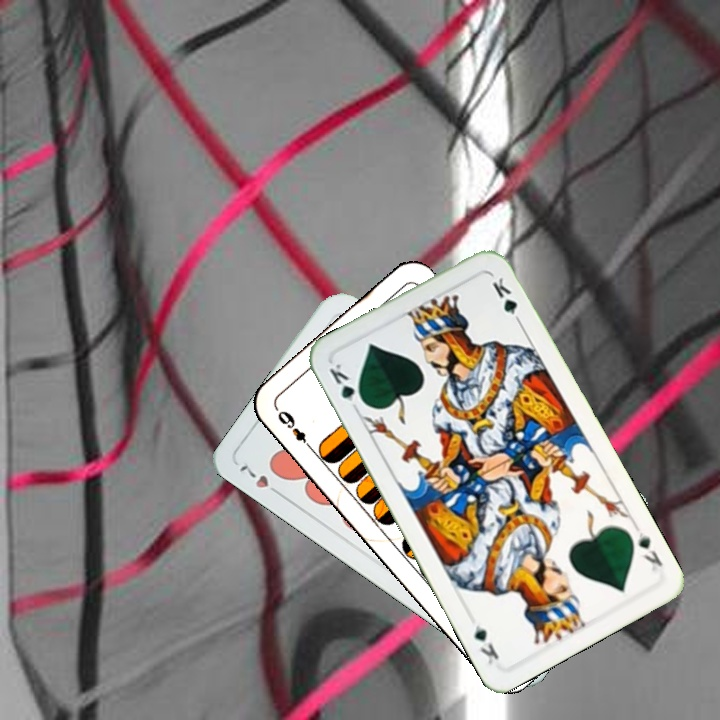E9: (273, 406, 316, 453)
GK: (325, 359, 368, 414), (631, 522, 666, 574)
H7: (236, 459, 286, 500)
